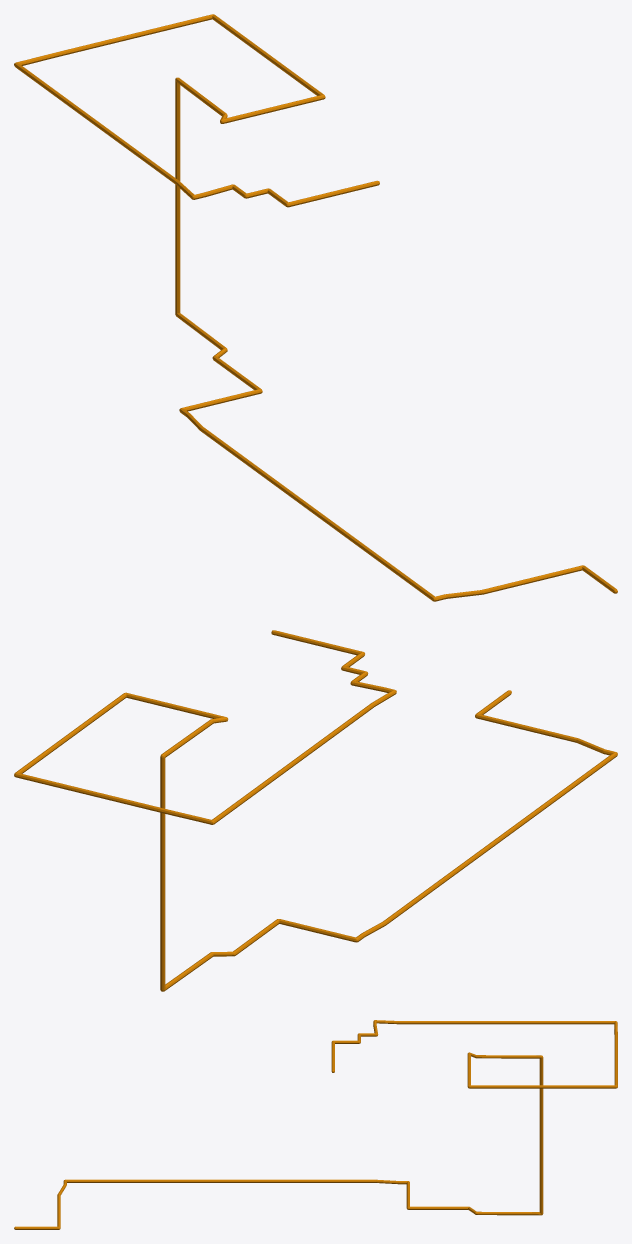
The picture shows the model from 3 angles, top to bottom: view 1: azimuth 30°, elevation 25°; view 2: azimuth 150°, elevation 25°; view 3: azimuth 270°, elevation 25°; orthographic projection. The views are drawn at different scales.
Size of the model in its own units: 912 by 1020 by 3494.
